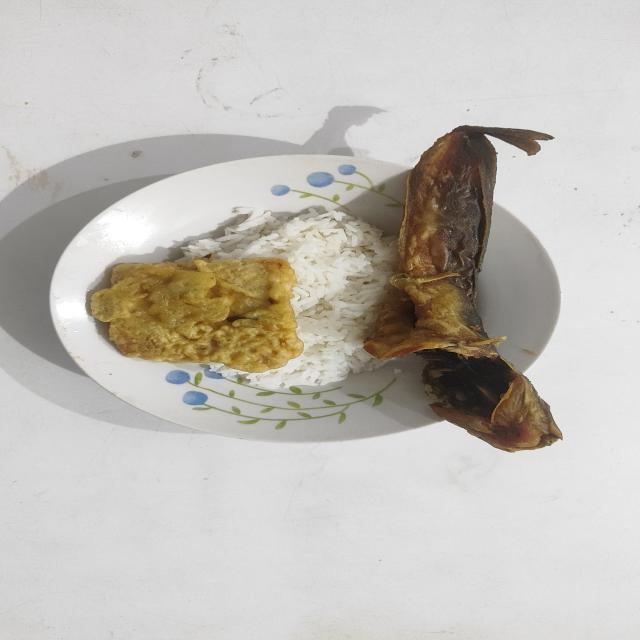nasi_putih: (181, 206, 395, 390)
